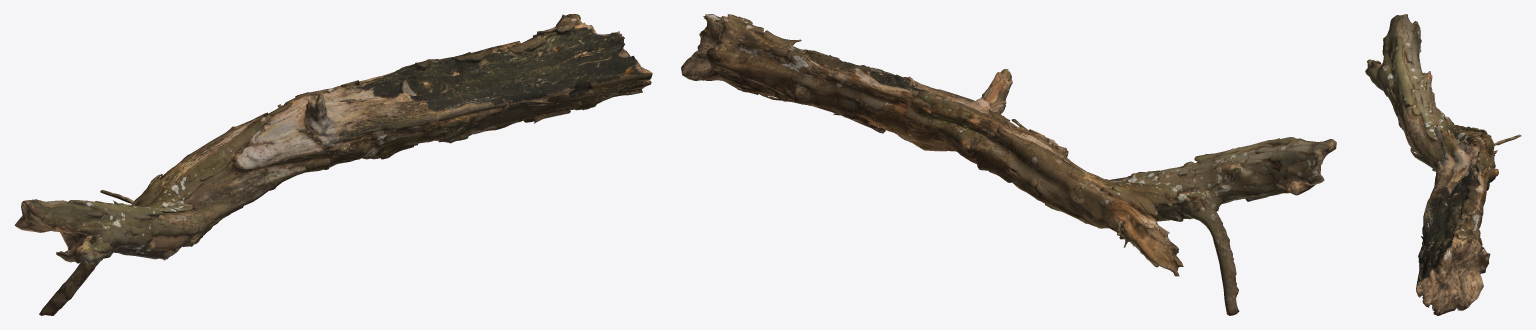
File: prop_tree_dead_b.glb
The picture shows the model from 3 angles, left to right: view 1: azimuth 30°, elevation 25°; view 2: azimuth 150°, elevation 25°; view 3: azimuth 270°, elevation 25°; orthographic projection. The views are drawn at different scales.
Parts seen in each view (by area): view 1: dead_tree_trunk_02; view 2: dead_tree_trunk_02; view 3: dead_tree_trunk_02.
Part boxes in pixels (bbox=[...]): dead_tree_trunk_02: bbox=[14, 14, 652, 315]; dead_tree_trunk_02: bbox=[681, 14, 1336, 315]; dead_tree_trunk_02: bbox=[1365, 14, 1521, 315].
Size of the model in its own units: 4.05 by 1.06 by 1.06.
1 material, 1 textured.
